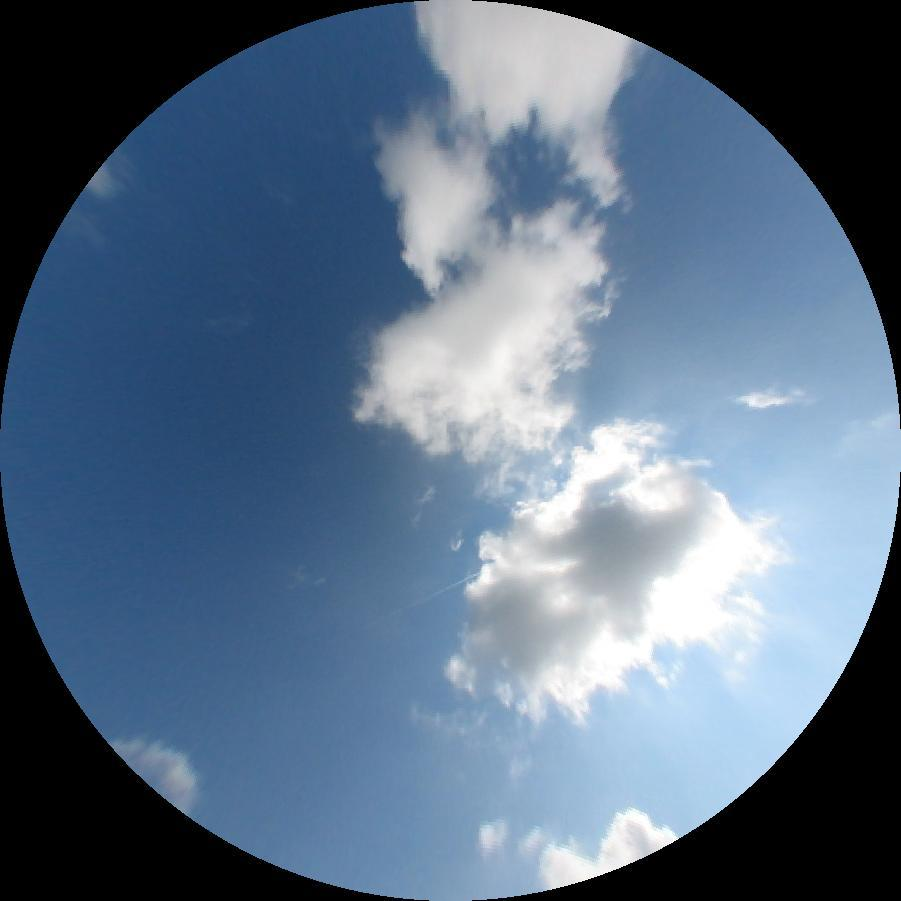contrail young: (371, 572, 479, 625)
